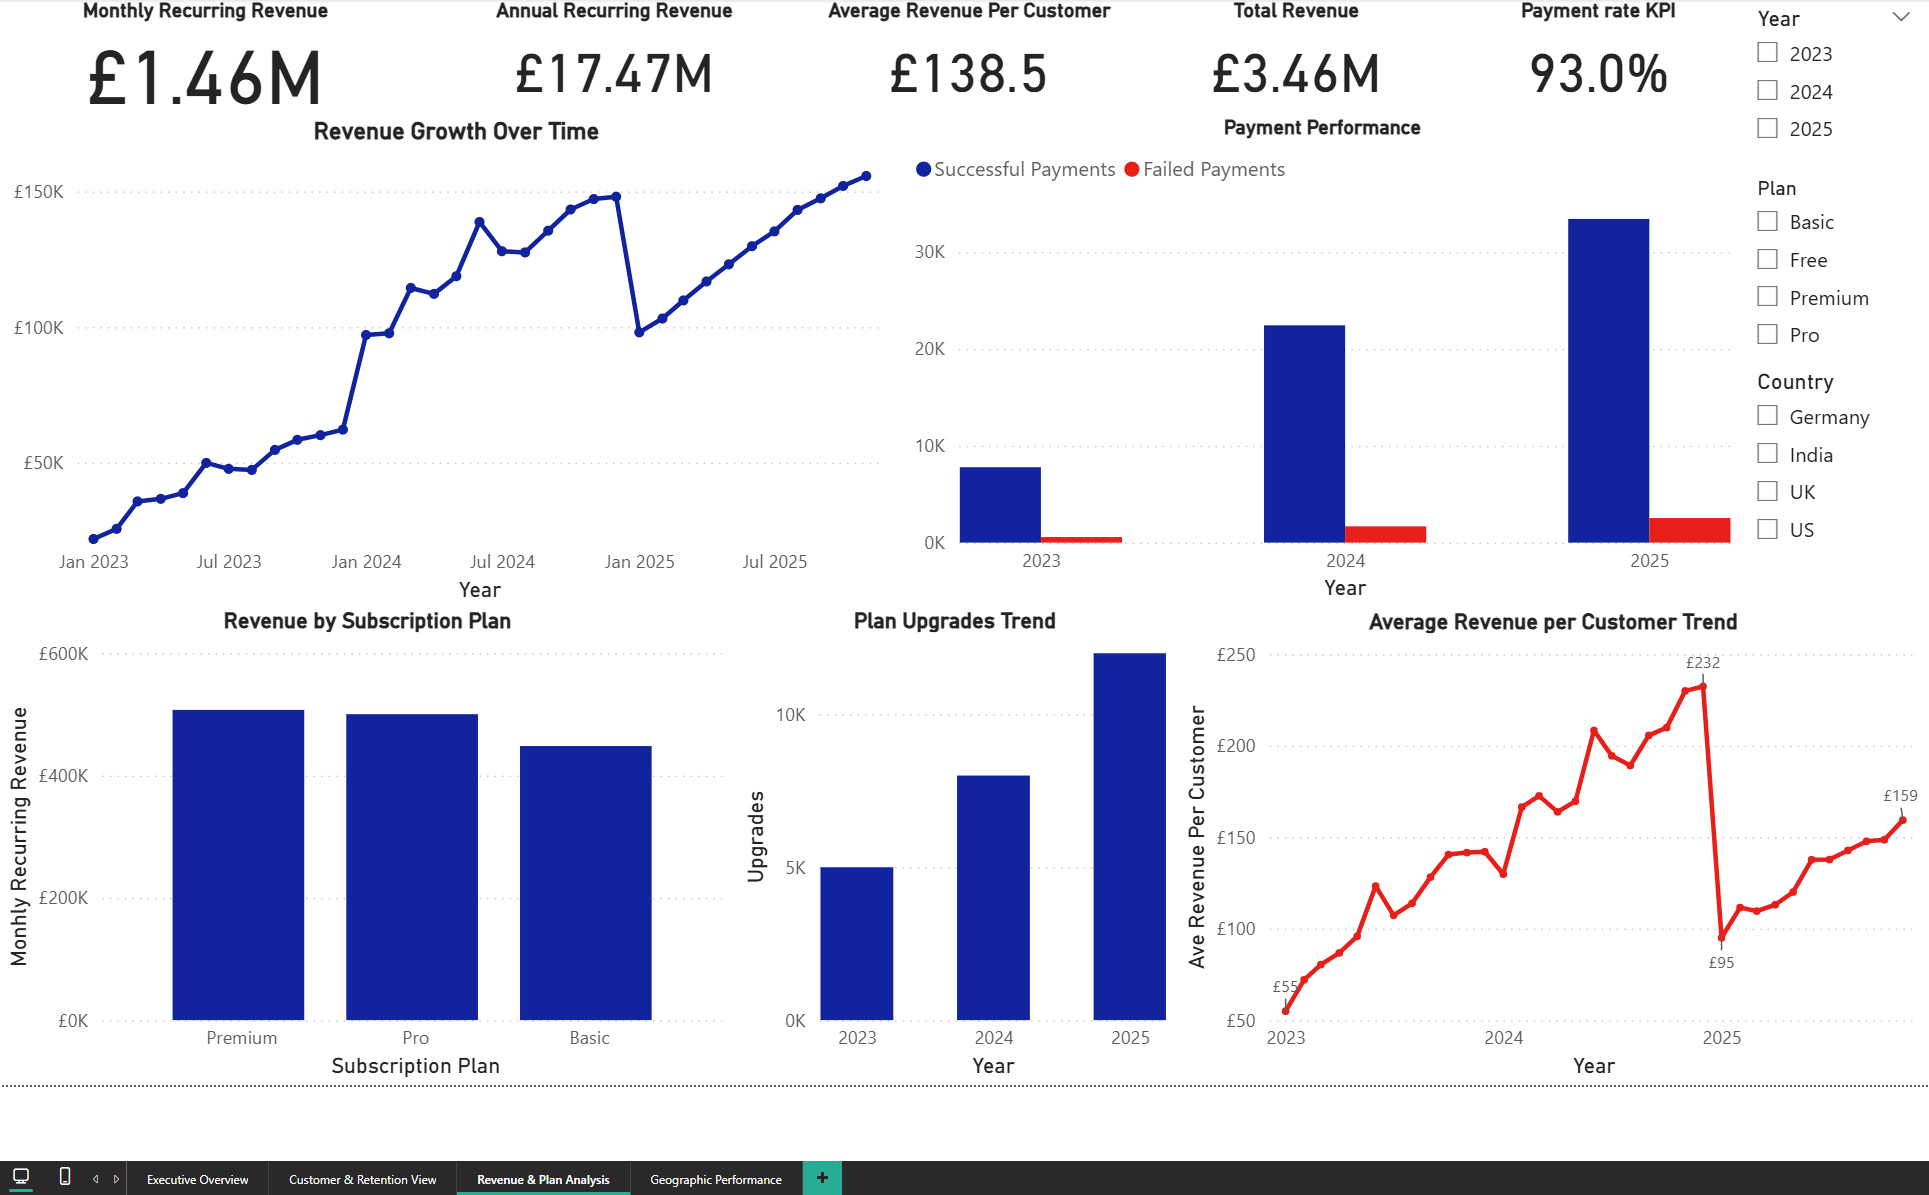

What the dashboard file says about the page in this screenshot:
{"tool":"powerbi","page":{"name":"Revenue & Plan Analysis","canvas":[1280,720],"ordinal":2},"visuals":[{"type":"card","title":"Monthly Recurring Revenue","fields":{"Values":["Just Measures.MRR"]},"box":[0,0,273.9,76.7],"z":0},{"type":"card","title":"Annual Recurring Revenue","fields":{"Values":["Just Measures.ARR"]},"box":[273.9,0,268.5,76.7],"z":1000},{"type":"card","title":"Total Revenue","fields":{"Values":["Just Measures.Total Revenue"]},"box":[752.4,0,215.4,76.9],"z":2000},{"type":"card","title":"Average Revenue Per Customer","fields":{"Values":["Just Measures.Ave Revenue Per Customer"]},"box":[542.5,0,202.2,76.6],"z":3000},{"type":"lineChart","title":"Revenue Growth Over Time","fields":{"Category":["DateTable.Date.Variation.Date Hierarchy.Year","DateTable.Date.Variation.Date Hierarchy.Month"],"Y":["Just Measures.Total Revenue"]},"box":[4.6,77.6,597.2,326.8],"z":4000},{"type":"clusteredColumnChart","title":"Revenue by Subscription Plan","fields":{"Category":["subscription_plans.PlanName"],"Y":["Just Measures.MRR"]},"box":[0,403.7,488.5,316.2],"z":5000},{"type":"clusteredColumnChart","title":"Plan Upgrades Trend","fields":{"Category":["DateTable.Date.Variation.Date Hierarchy.Year","DateTable.Date.Variation.Date Hierarchy.Quarter","DateTable.Date.Variation.Date Hierarchy.Month","DateTable.Date.Variation.Date Hierarchy.Day"],"Y":["Just Measures.Upgrades"]},"box":[488.5,403.7,290.3,316.2],"z":6000},{"type":"lineChart","title":"Average Revenue per Customer Trend","fields":{"Category":["DateTable.Date.Variation.Date Hierarchy.Year","DateTable.Date.Variation.Date Hierarchy.Month","DateTable.Date.Variation.Date Hierarchy.Day"],"Y":["Just Measures.Ave Revenue Per Customer"]},"box":[780.9,404.4,499.1,315.5],"z":7000},{"type":"clusteredColumnChart","title":"Payment Performance","fields":{"Category":["DateTable.Date.Variation.Date Hierarchy.Year","DateTable.Date.Variation.Date Hierarchy.Quarter","DateTable.Date.Variation.Date Hierarchy.Month","DateTable.Date.Variation.Date Hierarchy.Day"],"Y":["Just Measures.Successful Payments","Just Measures.Failed Payments"]},"box":[601.9,77.6,550.8,326.1],"z":8000},{"type":"slicer","fields":{"Values":["DateTable.Year"]},"box":[1152.7,0,127.3,112.7],"z":9000},{"type":"slicer","fields":{"Values":["subscription_plans.PlanName"]},"box":[1152.7,112.7,127.3,128.6],"z":10000},{"type":"slicer","fields":{"Values":["customers.Country"]},"box":[1152.7,240.6,127.3,163.1],"z":11000},{"type":"card","title":"Payment rate KPI","fields":{"Values":["Just Measures.Payment Success Rate"]},"box":[967.8,0,184.9,76.9],"z":12000}]}

Visuals, with their boxes on the page's 1280x720 design canvas (x1, y1, x2, y2). These are canvas units, not pixel positions in the 1929x1195 screenshot, which may show the page scaled, cropped or inside an application window:
"Monthly Recurring Revenue" card: [0, 0, 274, 77]
"Annual Recurring Revenue" card: [274, 0, 542, 77]
"Total Revenue" card: [752, 0, 968, 77]
"Average Revenue Per Customer" card: [542, 0, 745, 77]
"Revenue Growth Over Time" lineChart: [5, 78, 602, 404]
"Revenue by Subscription Plan" clusteredColumnChart: [0, 404, 488, 720]
"Plan Upgrades Trend" clusteredColumnChart: [488, 404, 779, 720]
"Average Revenue per Customer Trend" lineChart: [781, 404, 1280, 720]
"Payment Performance" clusteredColumnChart: [602, 78, 1153, 404]
slicer - DateTable.Year: [1153, 0, 1280, 113]
slicer - subscription_plans.PlanName: [1153, 113, 1280, 241]
slicer - customers.Country: [1153, 241, 1280, 404]
"Payment rate KPI" card: [968, 0, 1153, 77]
